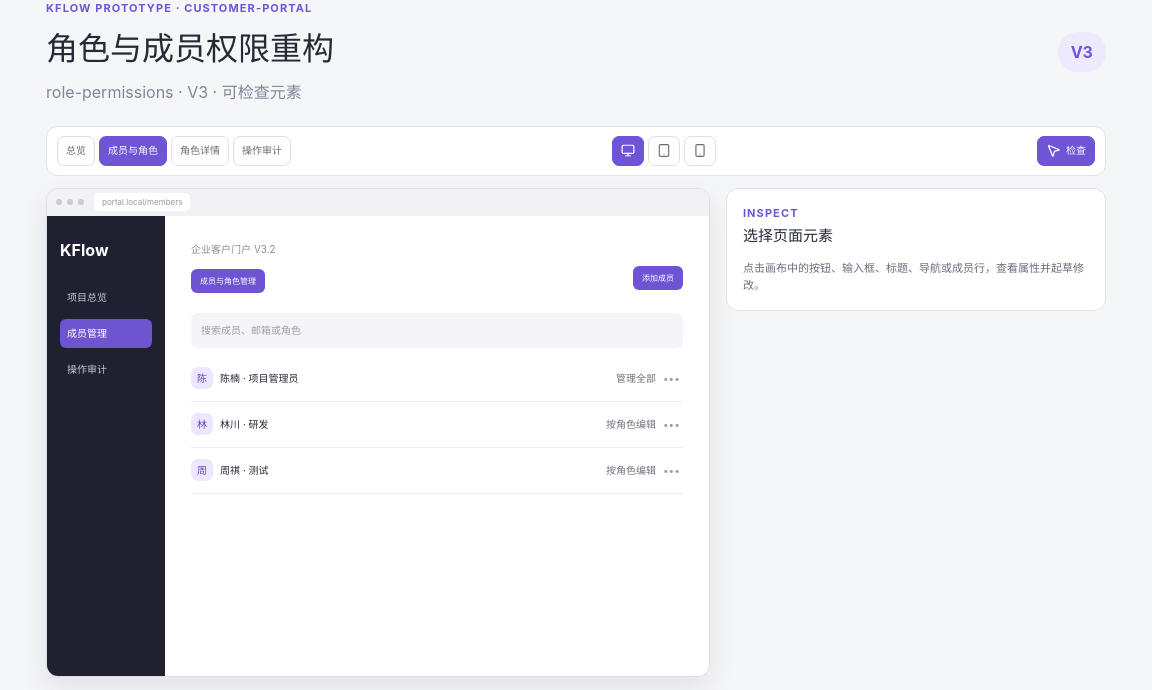
Test: does not grant editing from a modified URL
Step 1. Click the button with aria-label "选择添加成员按钮" → [658, 278], box [633,266,683,290]
(page scrolled)
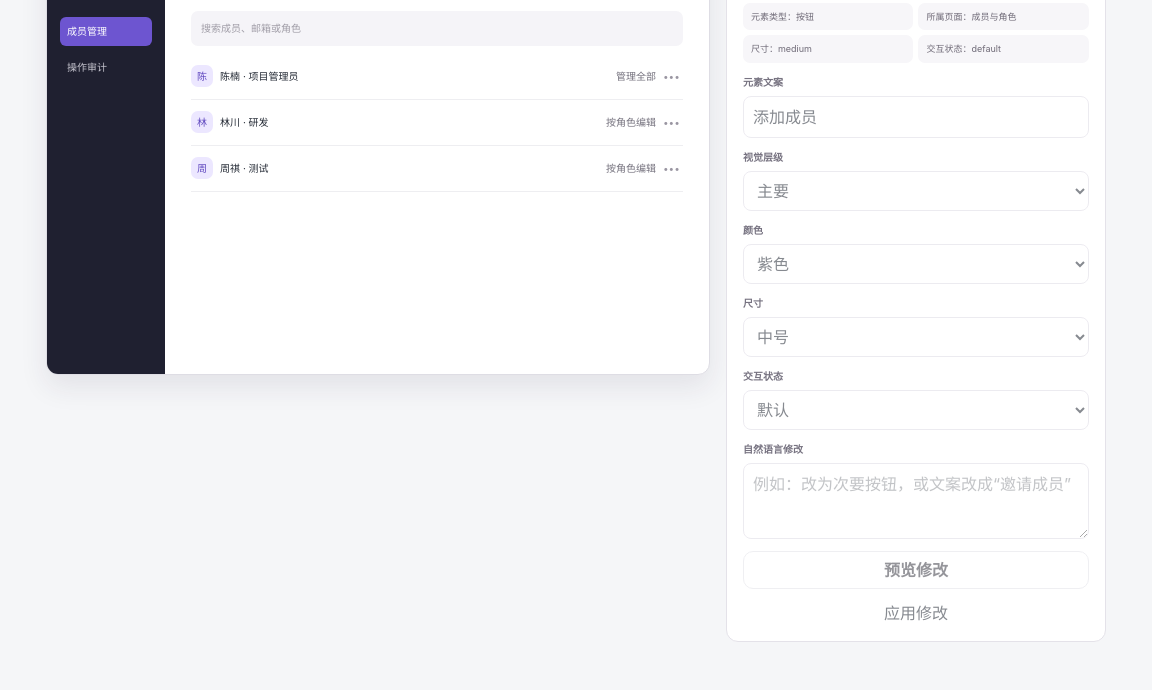
Check: the field labelled "元素文案" is disabled, box [743,96,1089,138]
Check: the button "应用修改" is disabled, box [743,600,1089,624]
